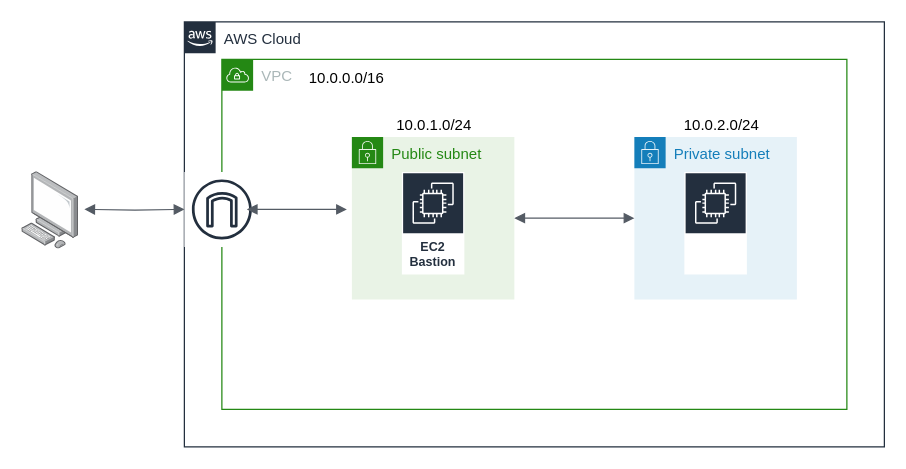
Some shapes in this 906 by 469 pixel diagram are drawn without their labels. Each missing label, with the centre of its shape:
"Database/App Server" goes at point 715,222.
"Internet gateway" goes at point 221,209.
